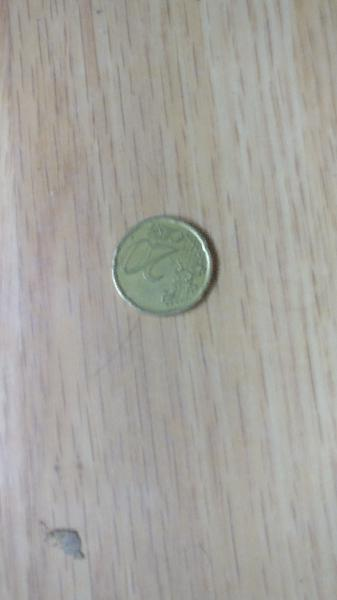Twenty Cent: (111, 216, 218, 316)
